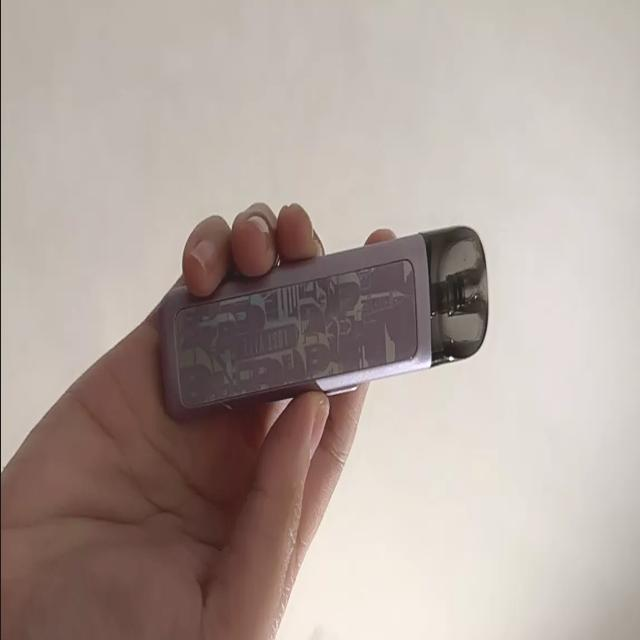Hazard: (158, 222, 491, 419)
